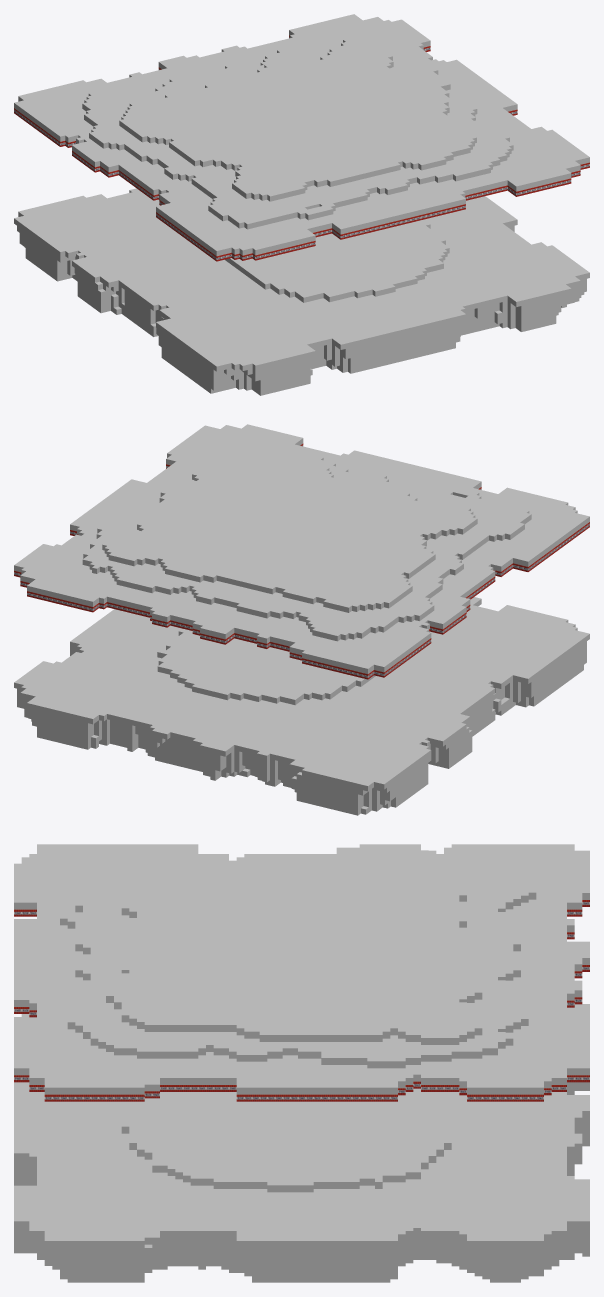
The model's file is minecraft.obj.
3 renders of one model, top to bottom at view 1: azimuth 30°, elevation 25°; view 2: azimuth 150°, elevation 25°; view 3: azimuth 270°, elevation 25°, orthographic. The views are drawn at different scales.
Bounding box in the file's own units: 75 × 30 × 75.
